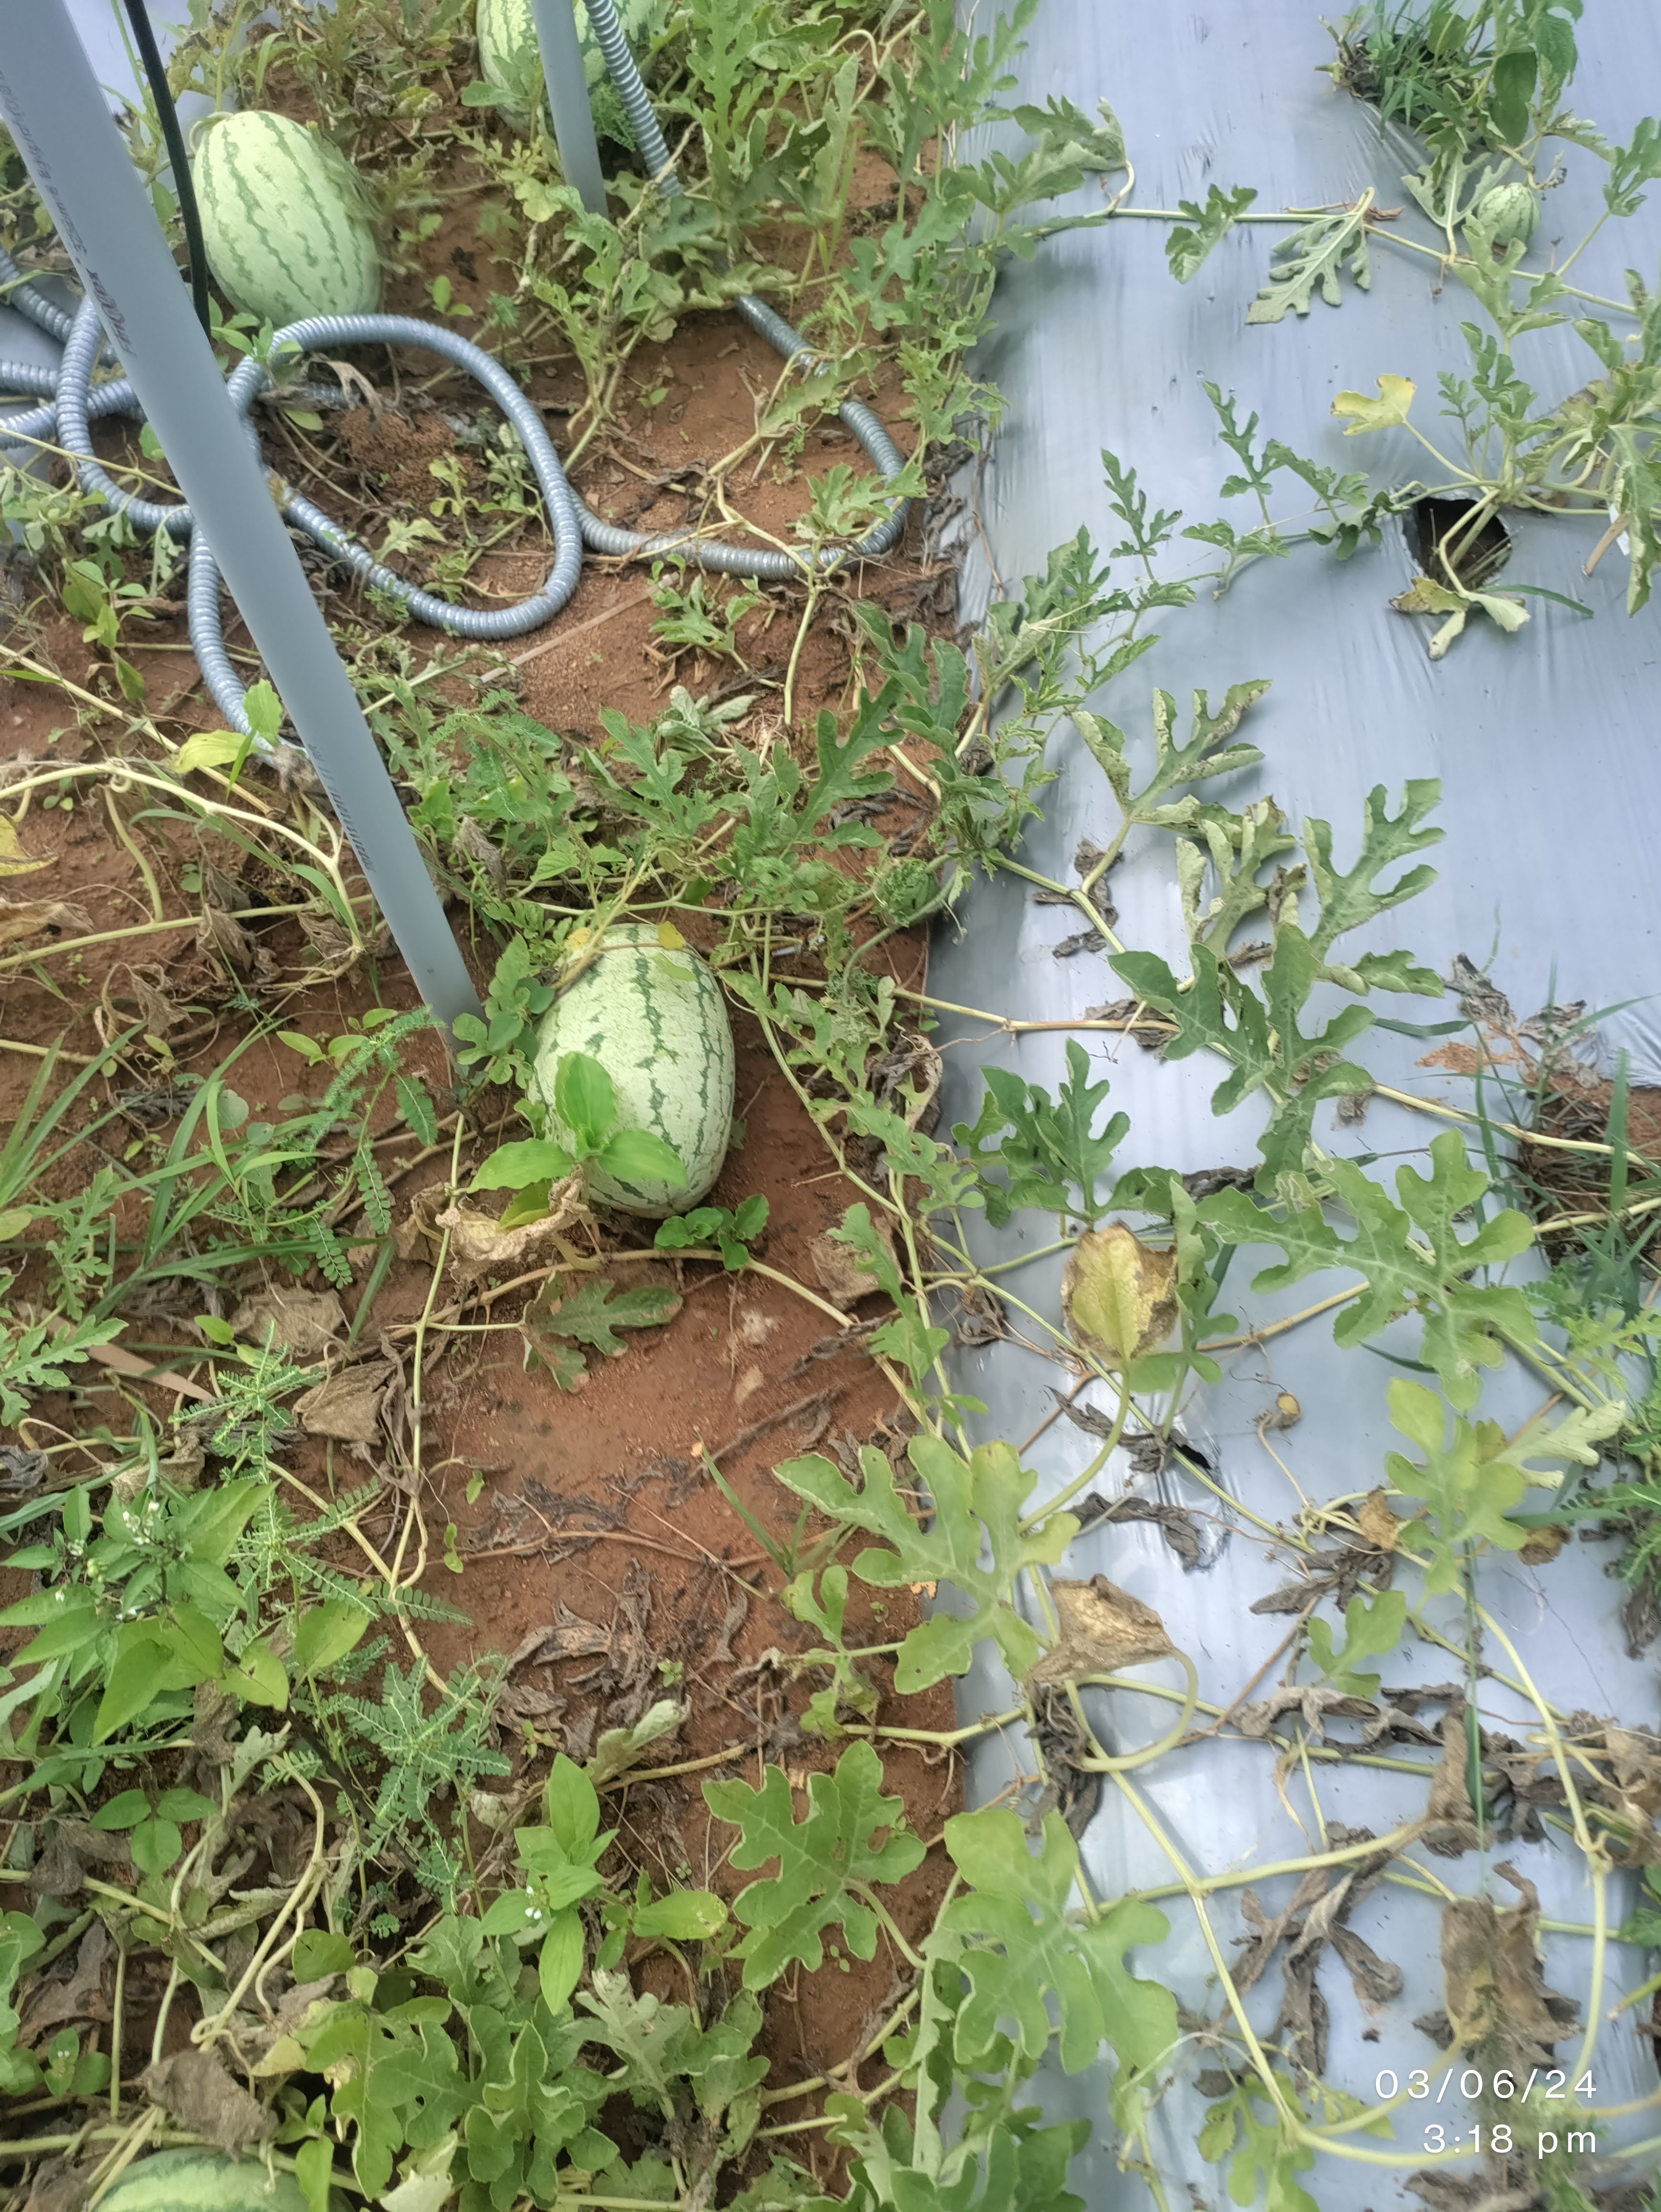good-to-harvest: (518, 822, 780, 1242), (171, 31, 424, 351)
